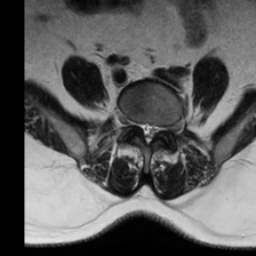CCS_normal: (144, 116, 151, 151)
LFS_severe_stenosis: (158, 117, 166, 137)
LLS_normal: (151, 116, 158, 143)
RFS_severe_stenosis: (131, 112, 138, 135)
RLS_severe_stenosis: (138, 114, 145, 142)
